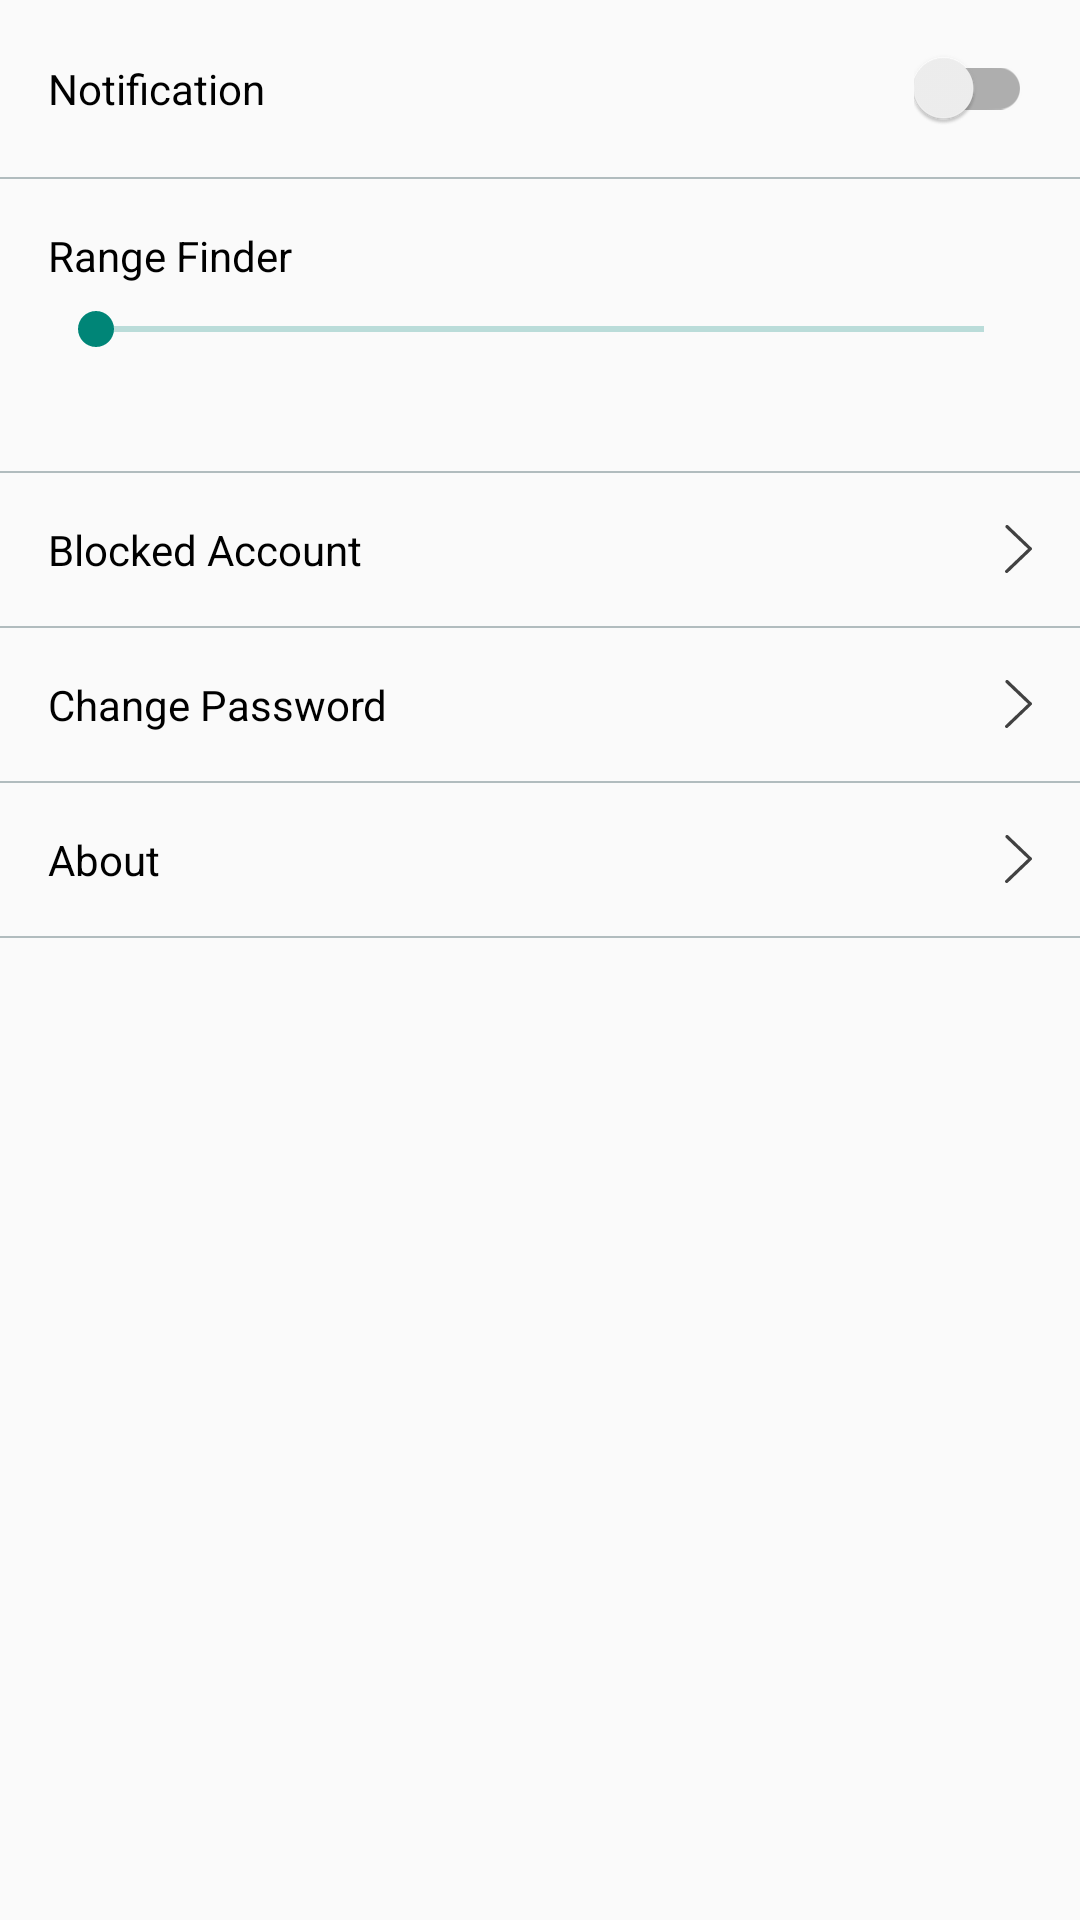

Locate icon controls on the screen. Image size 1080px×1920px, boxes as (x1, y1, x2, y2).
right arrow: (1005, 525, 1032, 573), (1005, 680, 1032, 728), (1005, 835, 1032, 883)
